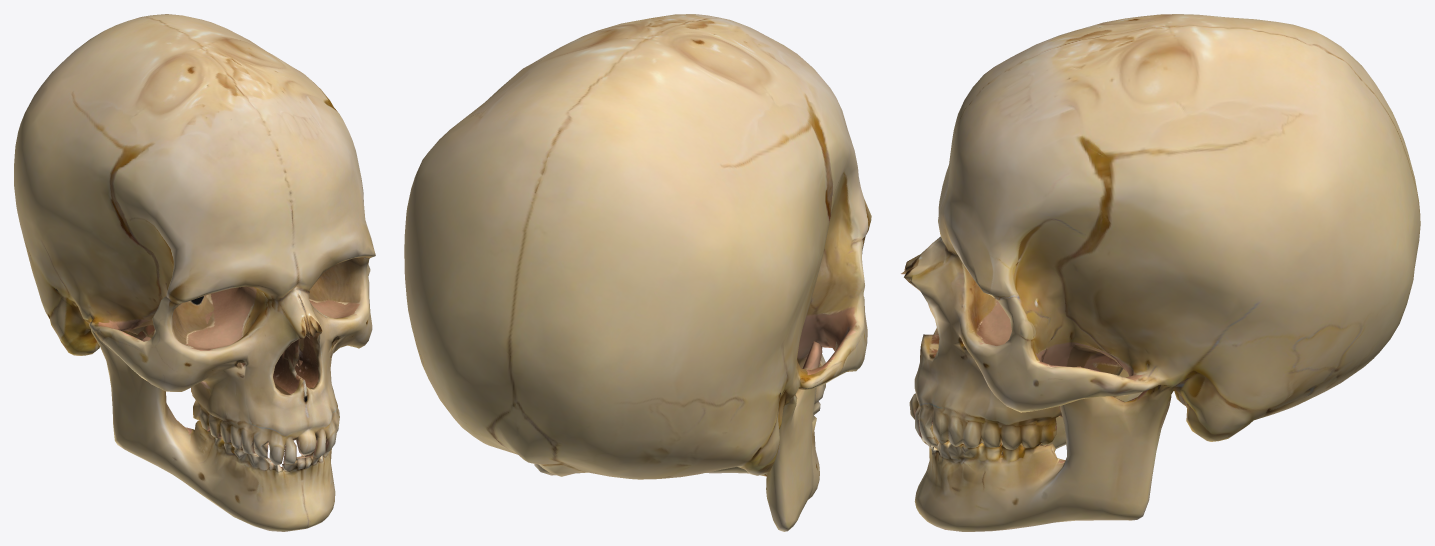
File: SKULL.glb
3 views of the same model, side by side, from view 1: azimuth 30°, elevation 25°; view 2: azimuth 150°, elevation 25°; view 3: azimuth 270°, elevation 25° (orthographic). The views are drawn at different scales.
Bounding box in the file's own units: 1.43 × 2 × 1.93.
1 material, 1 textured.
